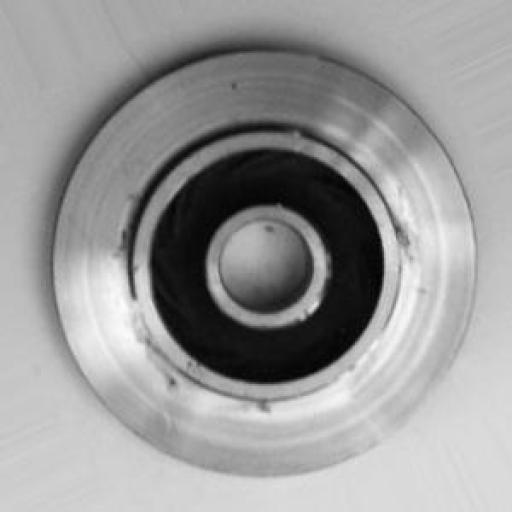defect: (111, 148, 430, 430)
